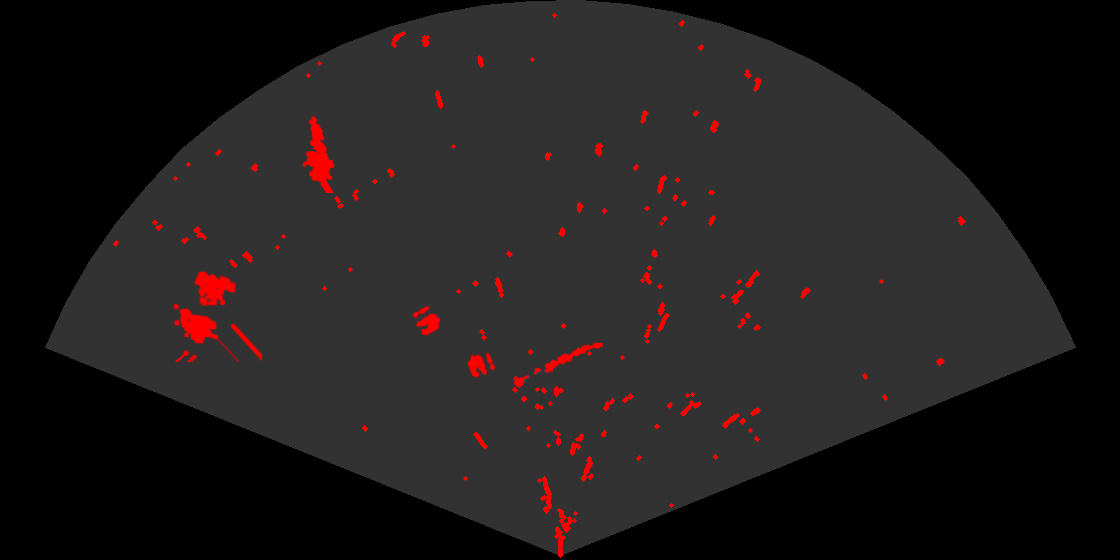ball: (411, 304, 442, 337), (466, 351, 497, 380)
cage: (172, 269, 262, 362)
chain: (512, 341, 605, 390)
frogman: (301, 115, 336, 193)
